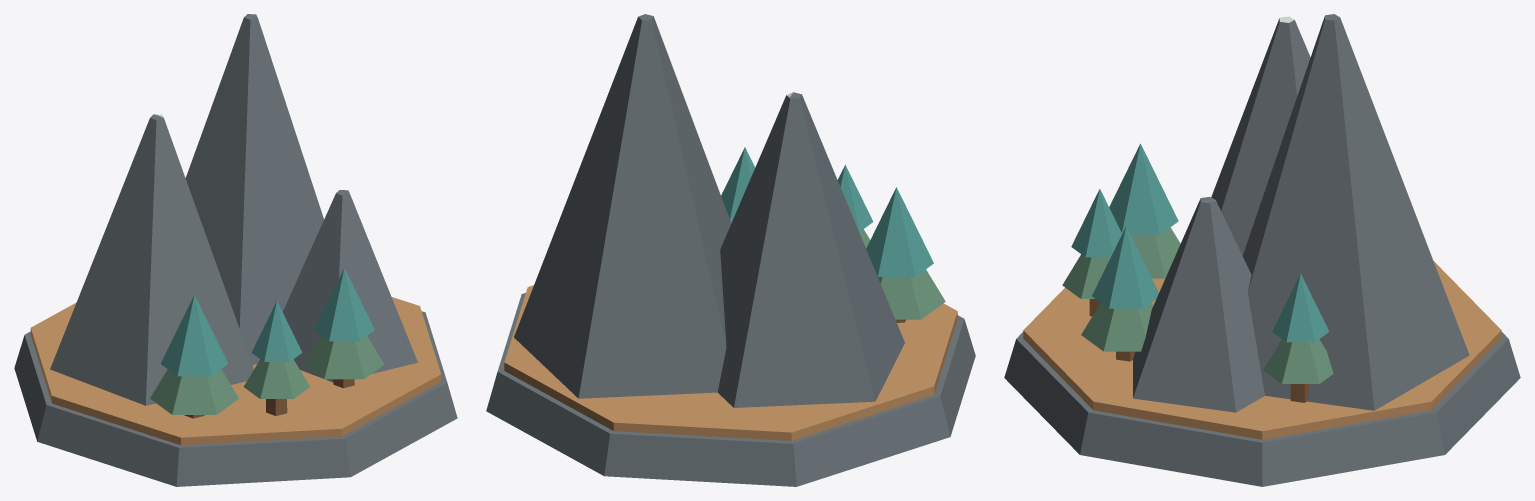
Rendered from terrain.glb.
3 renders of one model, left to right at view 1: azimuth 30°, elevation 25°; view 2: azimuth 150°, elevation 25°; view 3: azimuth 270°, elevation 25°, orthographic. The views are drawn at different scales.
Parts seen in each view (by area): view 1: Grat, Grat.001, Sockel.001, Fassung.001, Grat.002, Tanne oben, Tanne unten, Tanne unten.002, Tanne oben.002, Tanne unten.001, Tanne oben.001; view 2: Grat.001, Grat, Sockel.001, Fassung.001, Tanne oben, Tanne unten, Tanne oben.002, Tanne oben.001; view 3: Grat.001, Sockel.001, Grat.002, Fassung.001, Grat, Tanne oben, Tanne oben.002, Tanne unten.002, Tanne unten.003, Tanne oben.003, Tanne oben.001, Tanne unten (+1 smaller).
Boxes of the visible parts, x1,y1,x2,y2 form: Grat: (50,114,253,405); Grat.001: (185,14,323,364); Sockel.001: (14,311,457,486); Fassung.001: (30,297,441,445); Grat.002: (282,190,417,382); Tanne oben: (160,295,228,376); Tanne unten: (150,369,238,414); Tanne unten.002: (304,336,384,379); Tanne oben.002: (314,268,374,341); Tanne unten.001: (243,359,310,398); Tanne oben.001: (251,301,302,361); Grat.001: (514,14,731,398); Grat: (717,92,904,407); Sockel.001: (486,293,975,486); Fassung.001: (504,285,957,440); Tanne oben: (866,187,933,276); Tanne unten: (878,269,945,319); Tanne oben.002: (721,147,755,222); Tanne oben.001: (837,164,873,231); Grat.001: (1242,14,1469,410); Sockel.001: (1004,332,1520,486); Grat.002: (1133,196,1264,412); Fassung.001: (1023,261,1501,439); Grat: (1211,18,1310,255); Tanne oben: (1109,143,1178,235); Tanne oben.002: (1092,226,1158,308); Tanne unten.002: (1081,303,1153,351); Tanne unten.003: (1263,339,1333,383); Tanne oben.003: (1272,273,1329,342); Tanne oben.001: (1071,189,1121,257); Tanne unten: (1131,227,1180,278).
Bounding box in the file's own units: 2.16 × 1.78 × 2.16.
